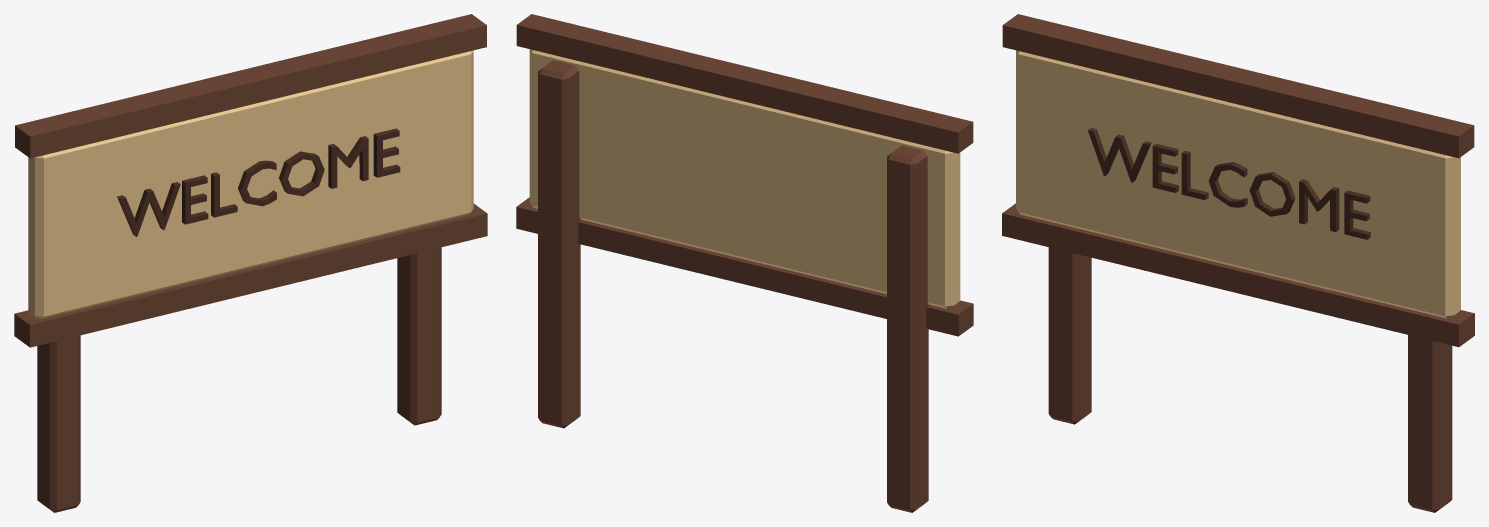
The model's file is Sign_Board_Welcome.fbx.
The picture shows the model from 3 angles, left to right: view 1: azimuth 30°, elevation 25°; view 2: azimuth 150°, elevation 25°; view 3: azimuth 330°, elevation 25°; orthographic projection. The views are drawn at different scales.
Parts seen in each view (by area): view 1: Sign_Board_Welcome; view 2: Sign_Board_Welcome; view 3: Sign_Board_Welcome.
Part boxes in pixels (x1=…): Sign_Board_Welcome: x1=14, y1=14, x2=487, y2=512; Sign_Board_Welcome: x1=516, y1=14, x2=973, y2=512; Sign_Board_Welcome: x1=1002, y1=14, x2=1474, y2=512.
Size of the model in its own units: 1.57 by 1.3 by 0.1837.
